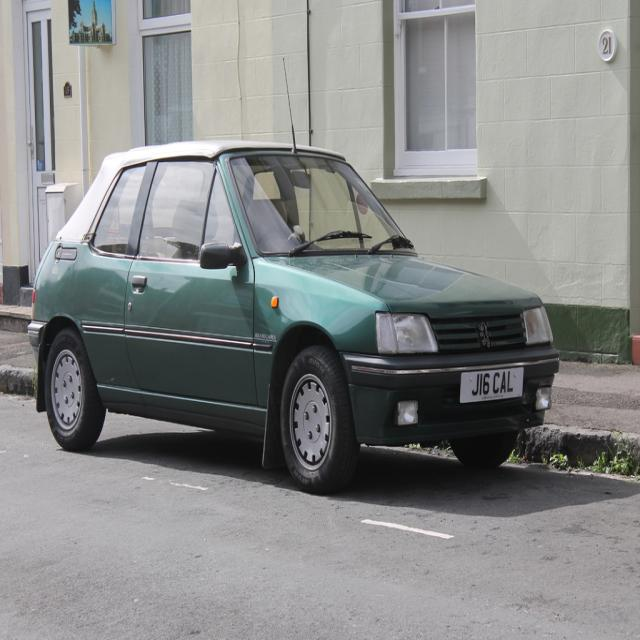car: (24, 62, 561, 493)
